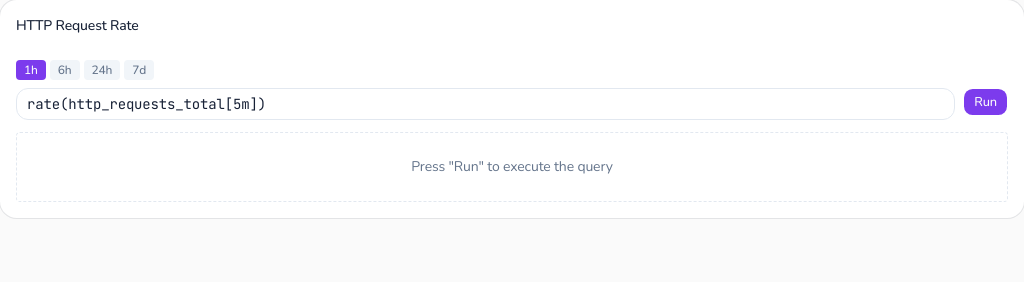
Test: PromQLChartCard › metricLabel › uses non-'__name__' metric key=value pairs as the chart label
Click the button "Run" at (986, 102), box [963,88,1008,116]
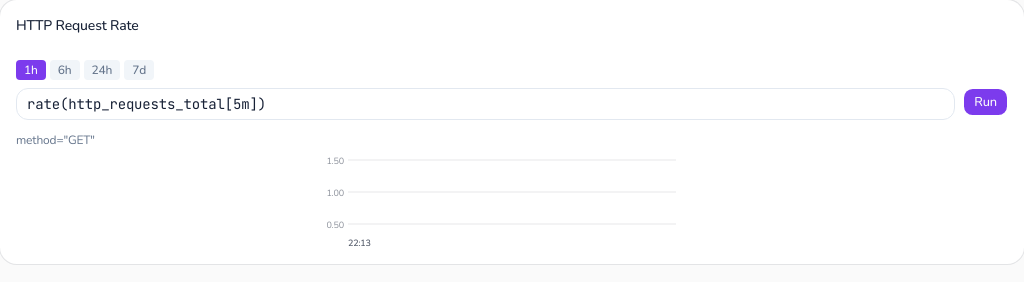
Check: the text "method=\"GET\"" is shown, box [16,132,95,148]
